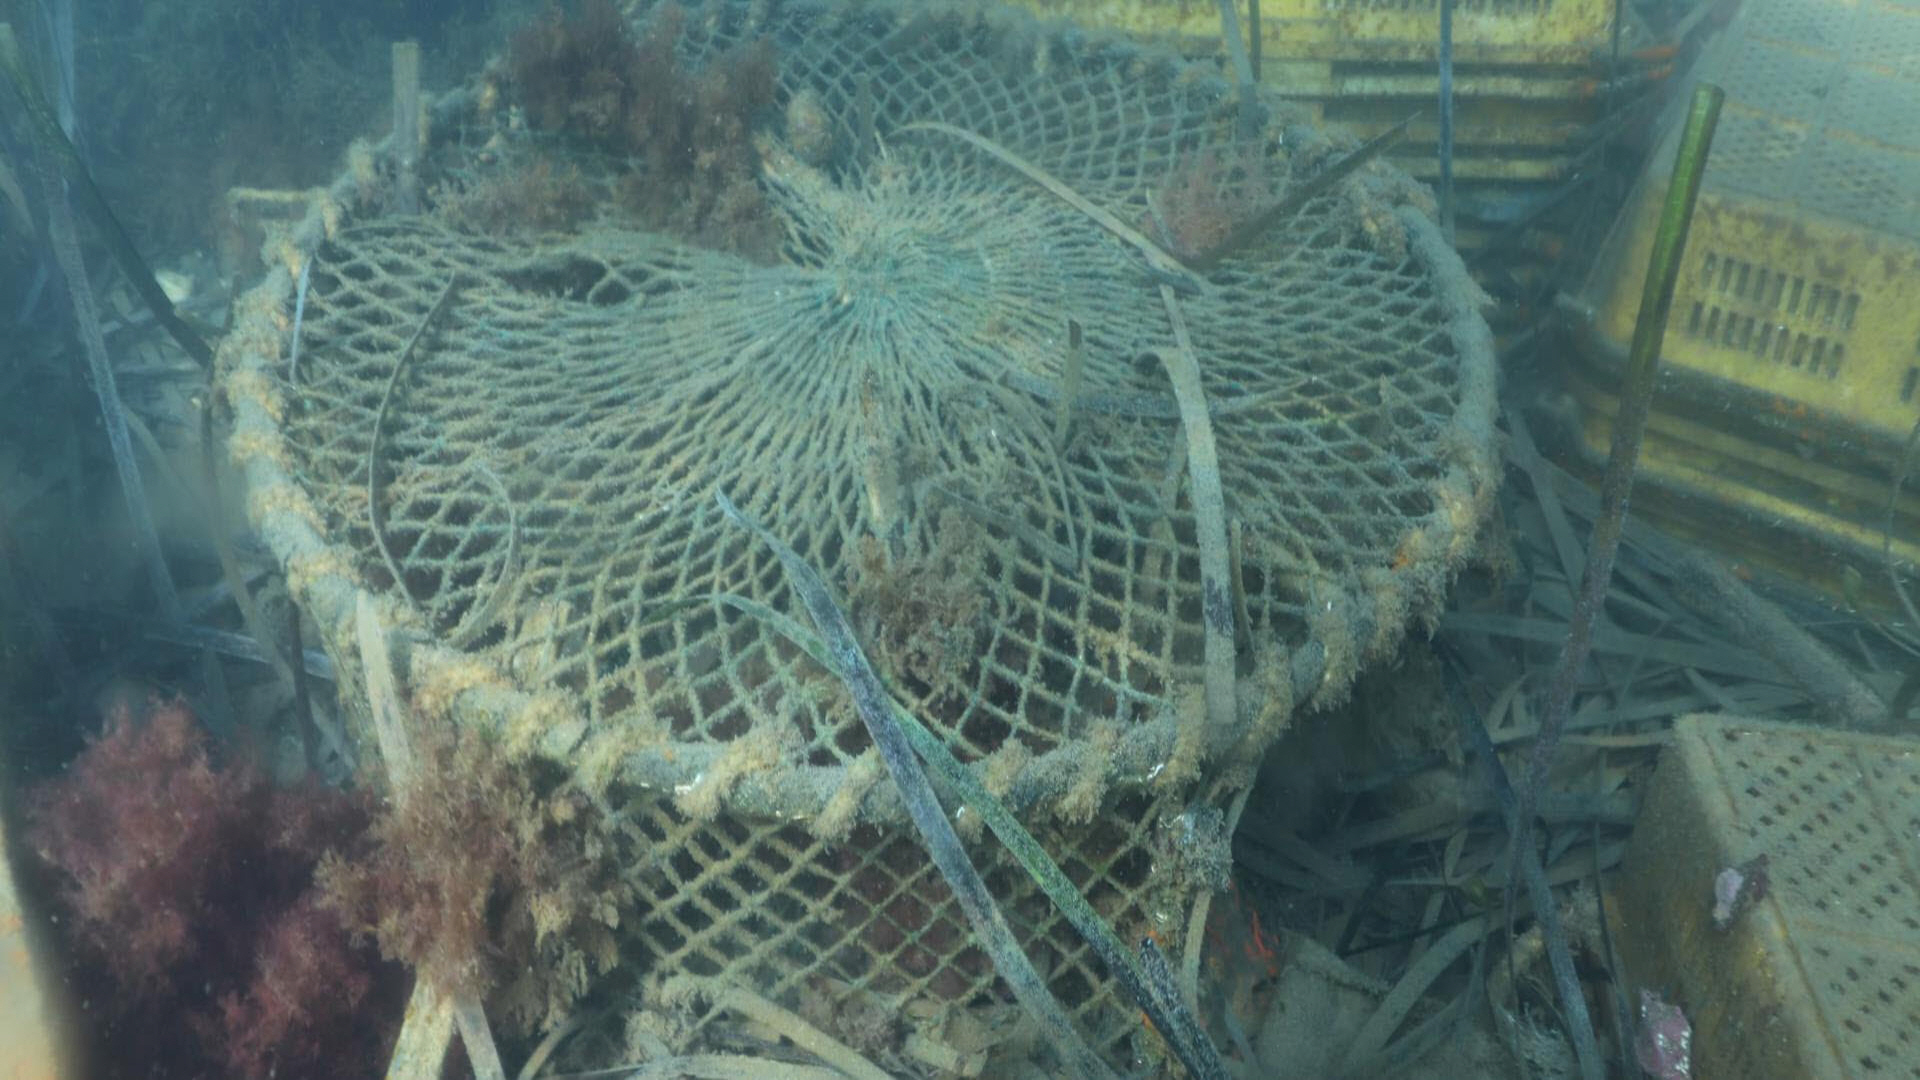circular fish trap: (225, 0, 1501, 1080)
rope: (225, 185, 314, 235)
